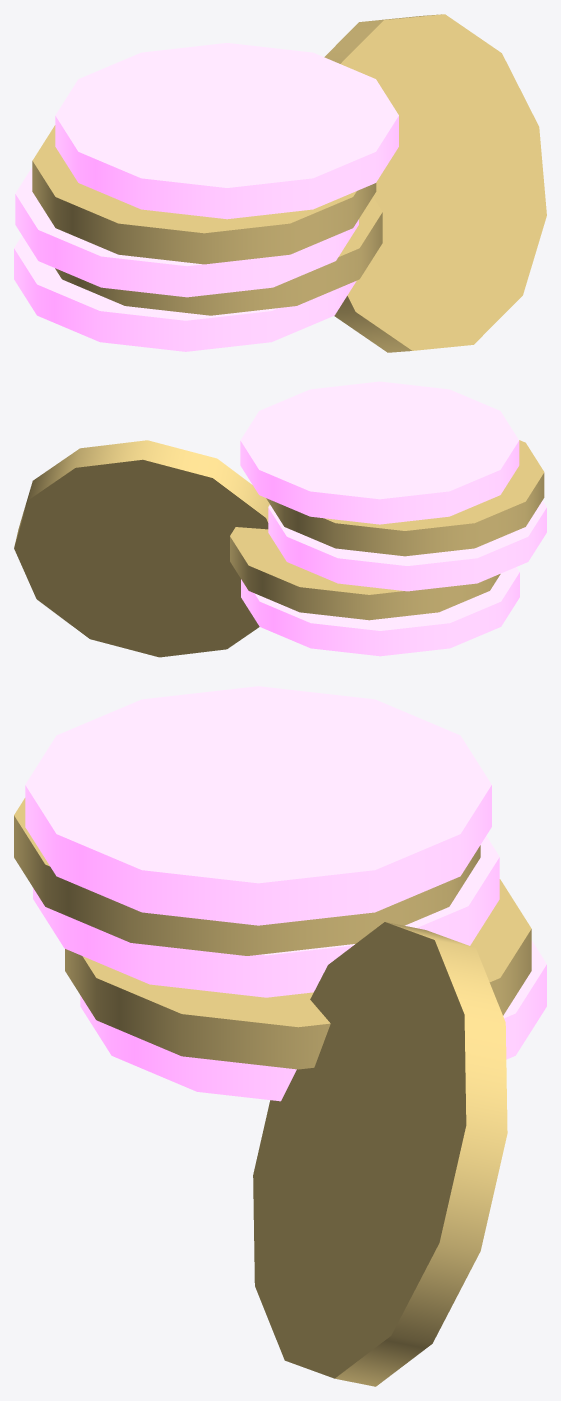
Rendered from item_chips.glb.
3 renders of one model, top to bottom at view 1: azimuth 30°, elevation 25°; view 2: azimuth 150°, elevation 25°; view 3: azimuth 270°, elevation 25°, orthographic. The views are drawn at different scales.
Visible parts, largest first — view 1: chips; view 2: chips; view 3: chips.
Boxes of the visible parts, left/top/right/bottom form: chips: left=14, top=14, right=546, bottom=352; chips: left=14, top=381, right=546, bottom=657; chips: left=14, top=686, right=546, bottom=1386.
Bounding box in the file's own units: 0.2656 × 0.1392 × 0.1599.
